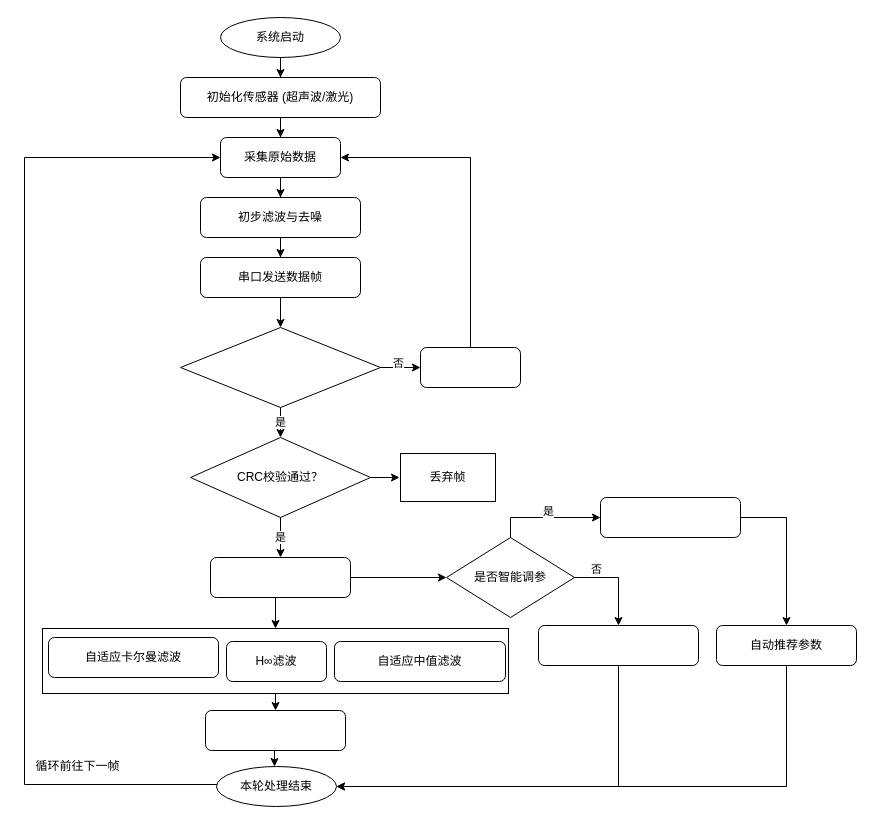
This 874x824 diagram has some shape labels left out. Each missing label, with the centre of its shape:
使用当前的参数: [618,645]
实时波形显示: [275,730]
提取统计特征: [670,517]
数据解析模块: [280,577]
是否收到完整数据帧？: [280,367]
继续接收: [470,367]
